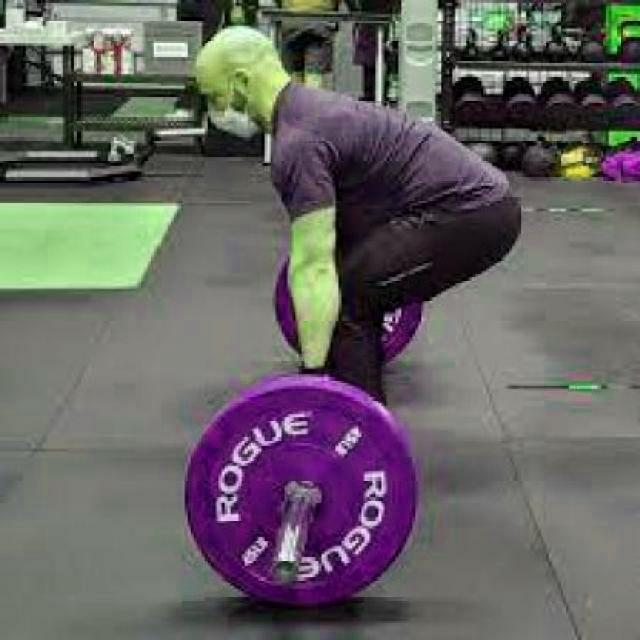barbell: (178, 372, 427, 617)
